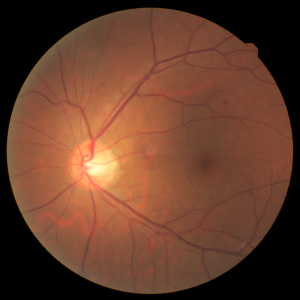healthy_eye: (31, 91, 212, 214)
